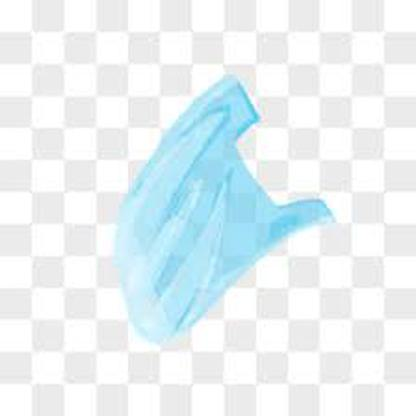plastic bag: (114, 71, 335, 343)
